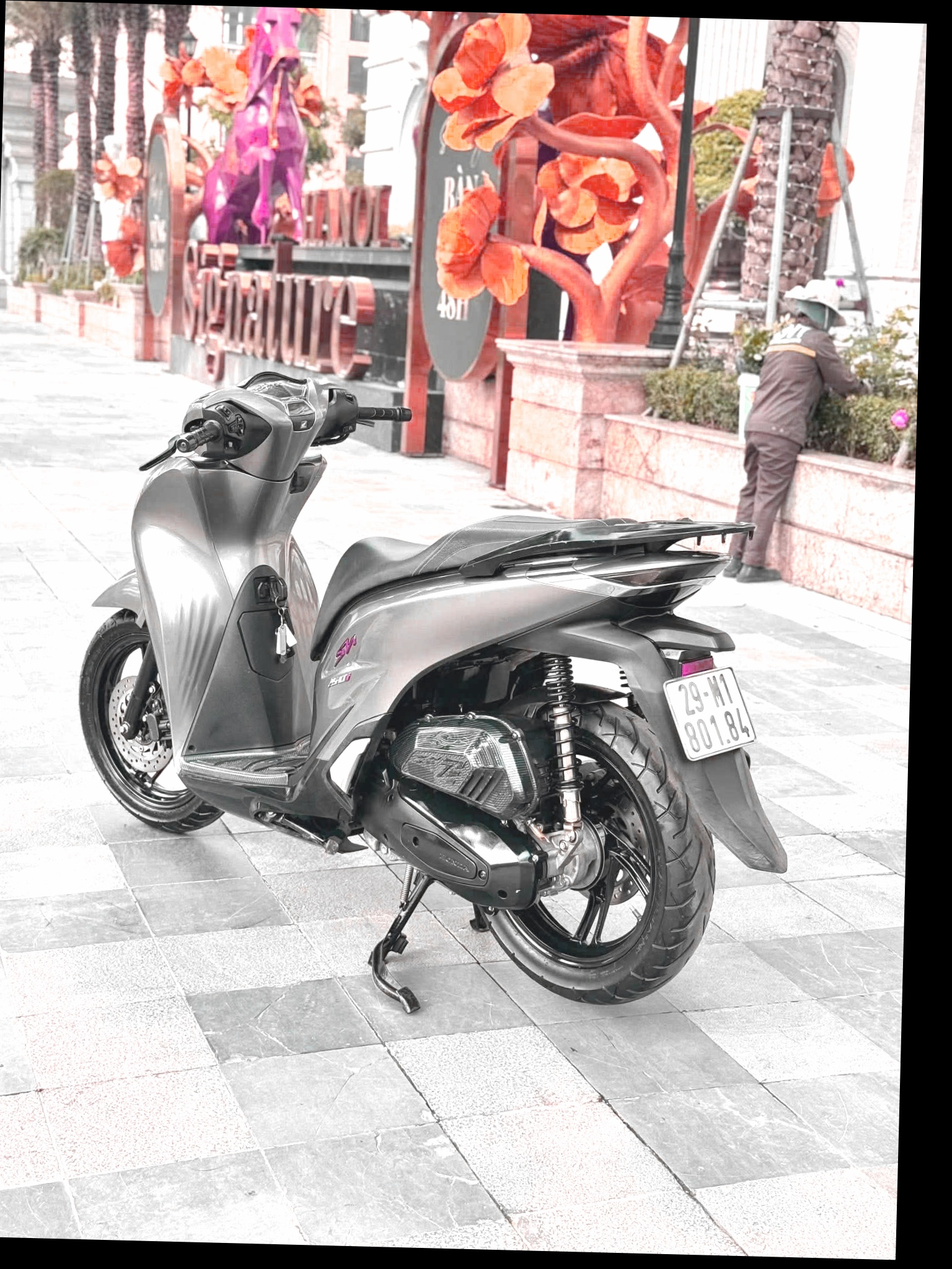Bien-so: (687, 642, 787, 748)
